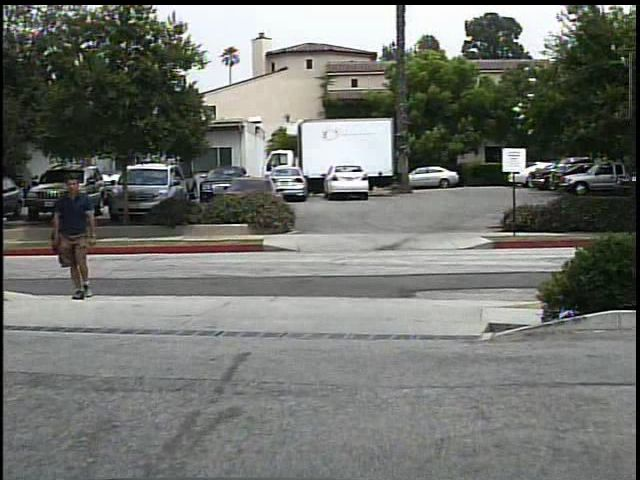person: (51, 175, 104, 302)
